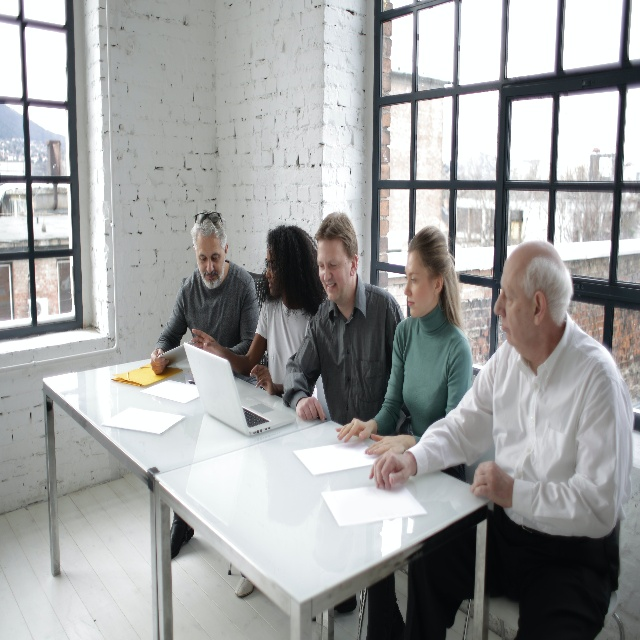Gafas: (194, 211, 223, 225), (265, 257, 275, 273)
Sin_guantes: (470, 461, 514, 509), (368, 449, 414, 490), (335, 417, 373, 444), (364, 432, 405, 456), (190, 328, 223, 356), (250, 364, 274, 396), (295, 396, 325, 421), (150, 348, 169, 375)
